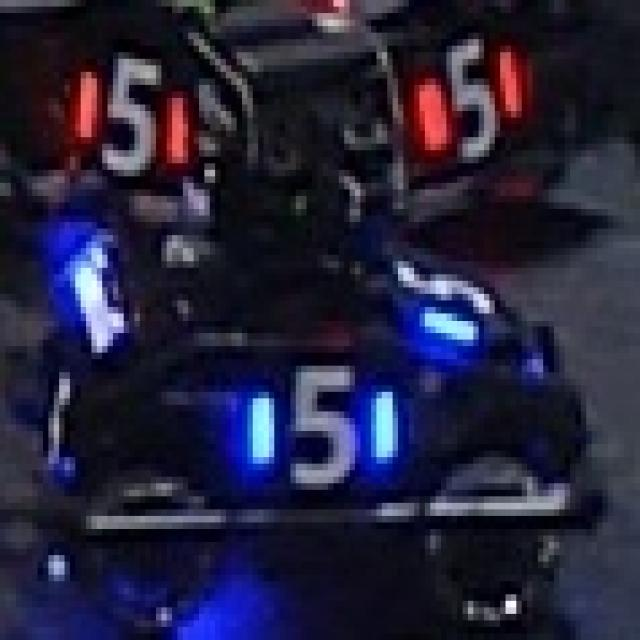B5: (242, 366, 409, 483), (382, 235, 489, 359)
R5: (65, 46, 188, 183), (414, 39, 522, 163)
